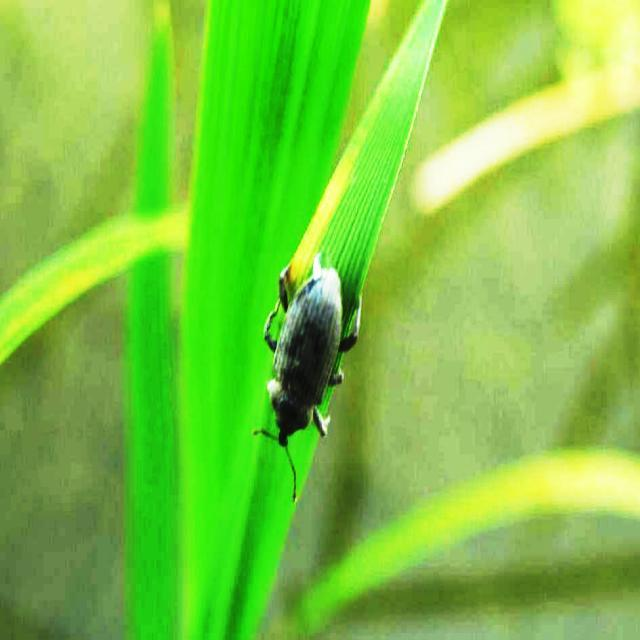rice-bug: (252, 254, 372, 464)
